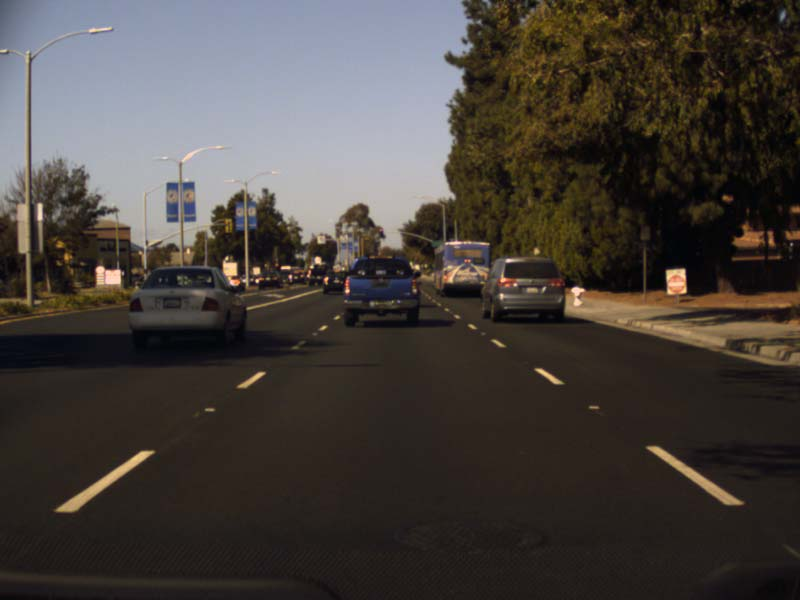Red: (378, 227, 384, 236)
